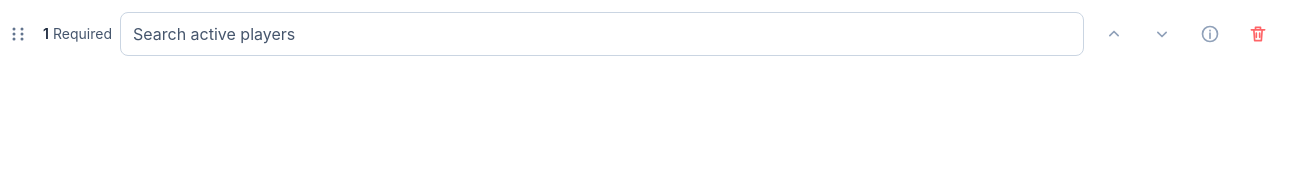
Test case: TeamRosterRow › shows a recoverable error when player search fails
Focus the dropdown named "Player 1 (required)" at (602, 34), box left=120, top=12, right=1084, bottom=56
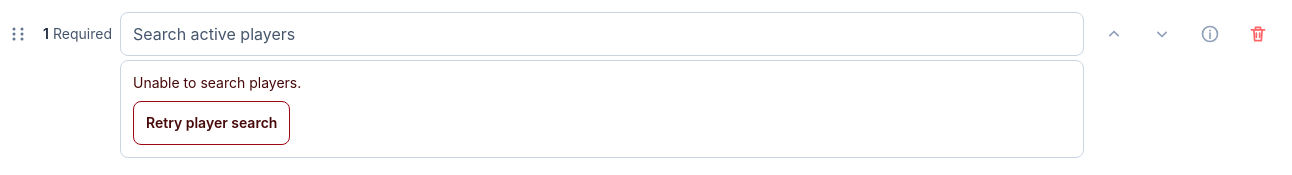
expect the message shows "Unable to search players.": met, box left=133, top=74, right=301, bottom=91
Click the button "Retry player search".
click(212, 123)  # box left=133, top=101, right=290, bottom=145
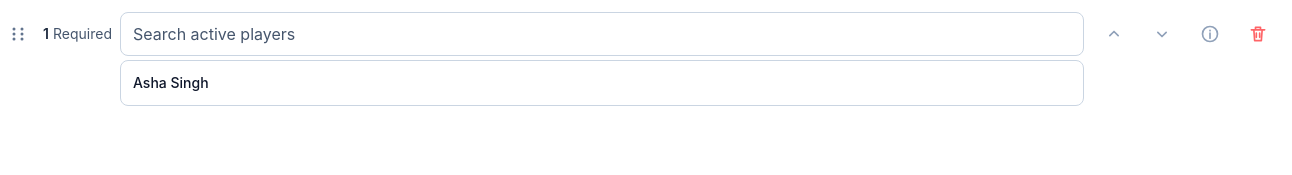
expect the option "Asha Singh" is shown: met, box left=133, top=74, right=209, bottom=91
